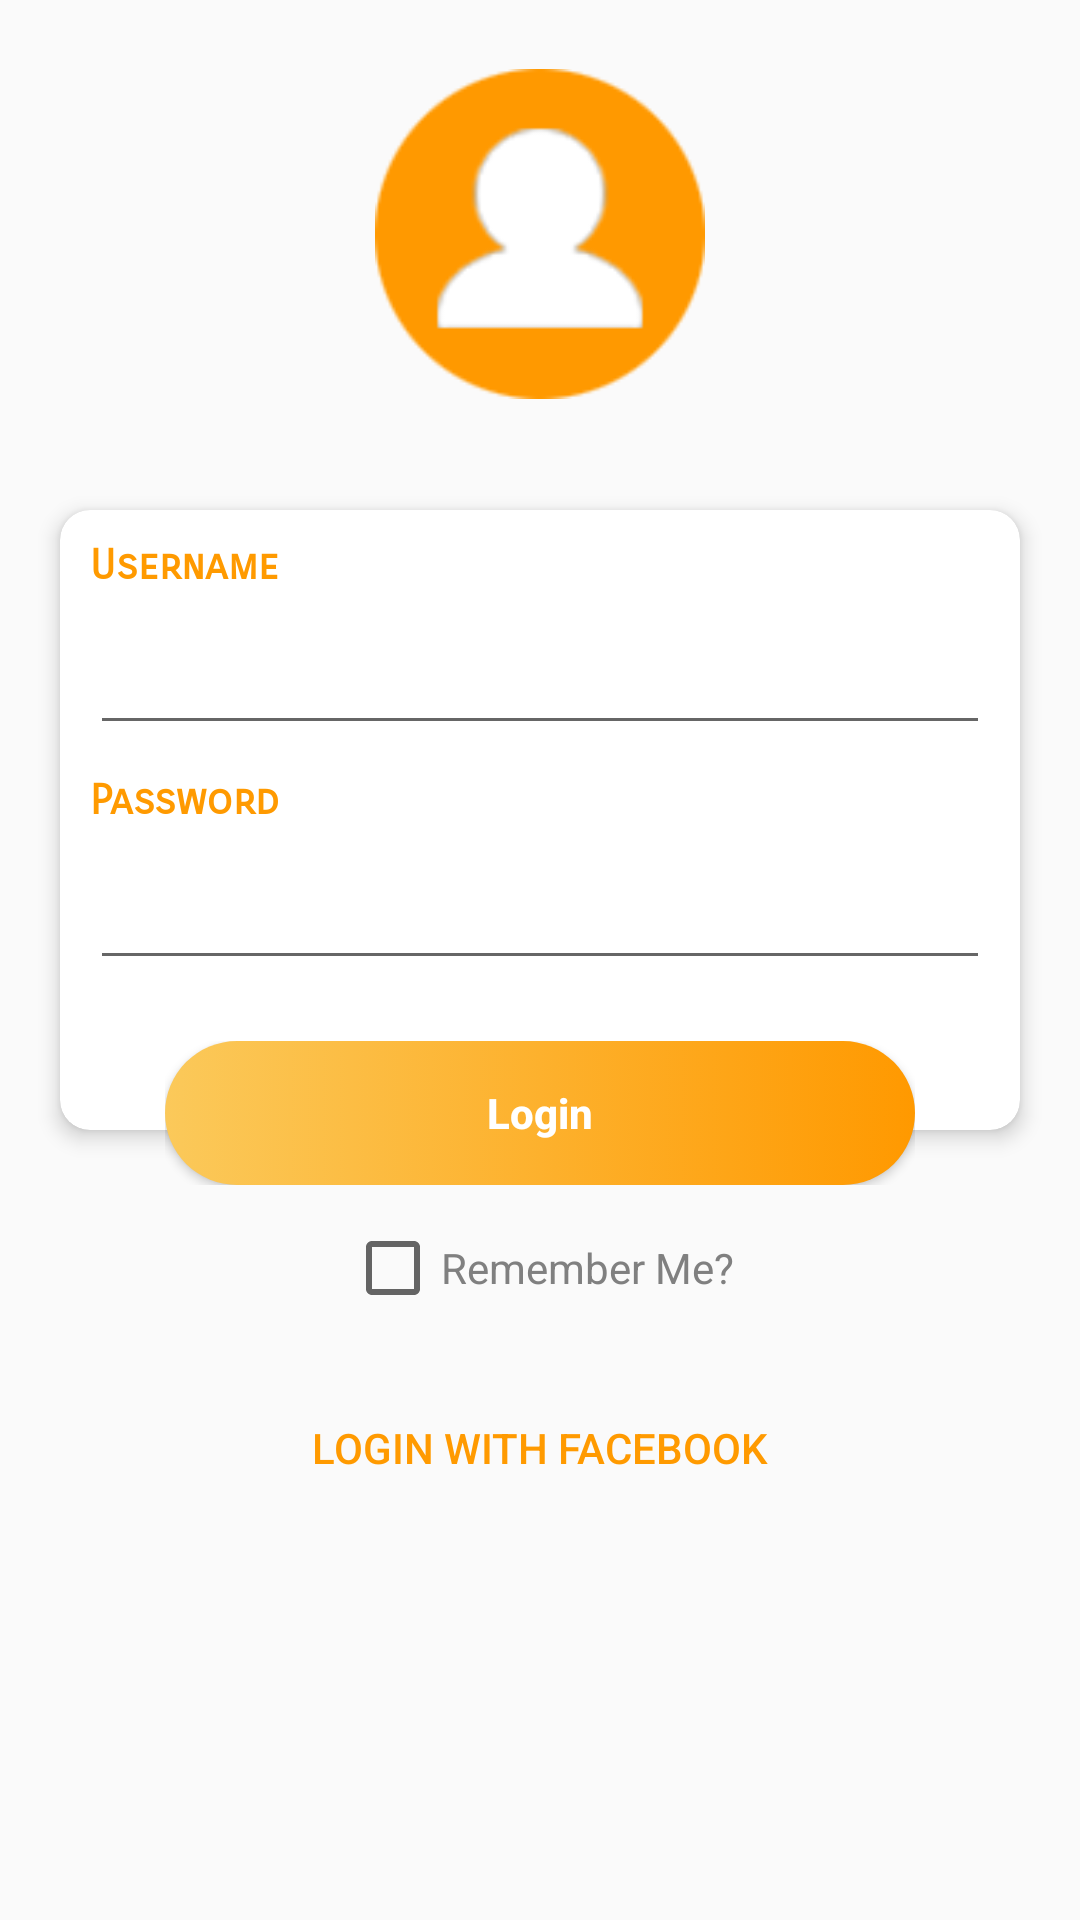

Point at icon controls on the screen. Image size 1080 x 1920, points as (x,y).
loginicon: (540,234)
